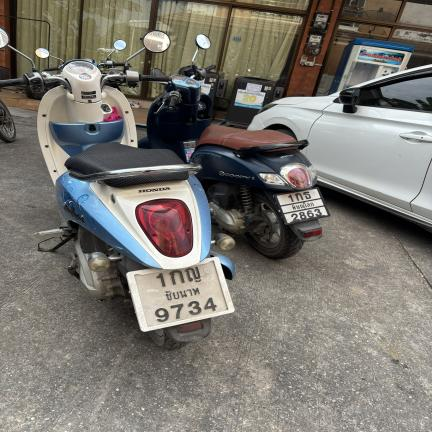1: (153, 272, 167, 288), (285, 194, 295, 203)
2: (289, 213, 300, 221)
3: (184, 299, 205, 317), (312, 208, 323, 217)
4: (200, 295, 221, 315)
6: (305, 210, 315, 218)
7: (167, 302, 188, 320)
8: (297, 211, 308, 220)
9: (152, 306, 173, 324)
A01: (168, 269, 187, 286), (293, 192, 305, 201)
A13: (184, 266, 203, 284)
A24: (302, 191, 312, 200)
CNT: (161, 284, 203, 302)
PLK: (289, 201, 316, 211)
